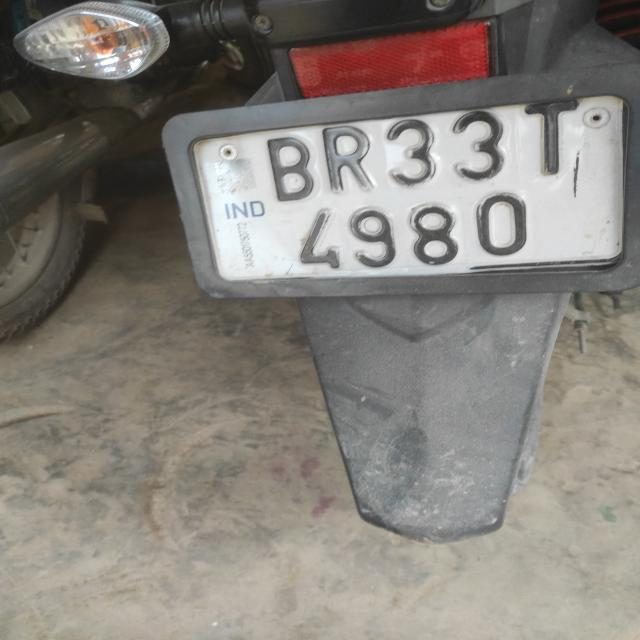number_plate: (185, 92, 633, 286)
